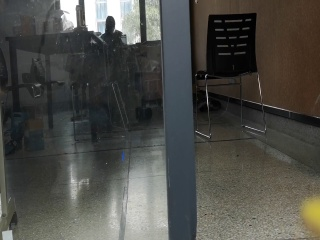room: (3, 1, 303, 235)
